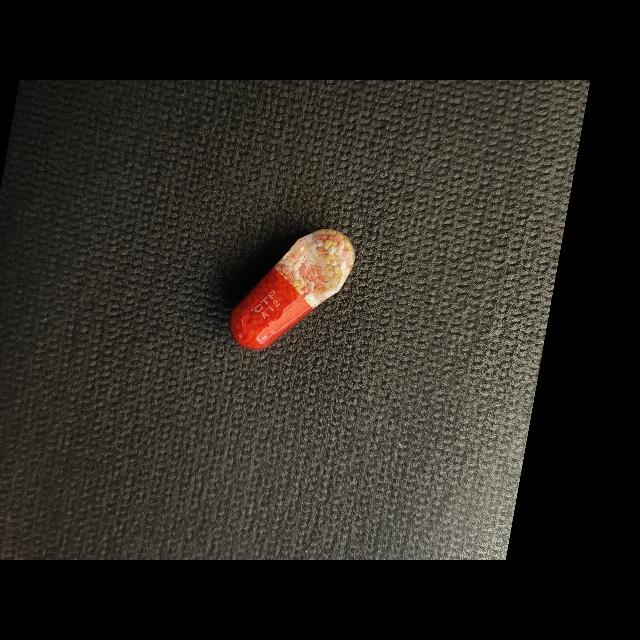Defective Capsule: (229, 229, 355, 350)
